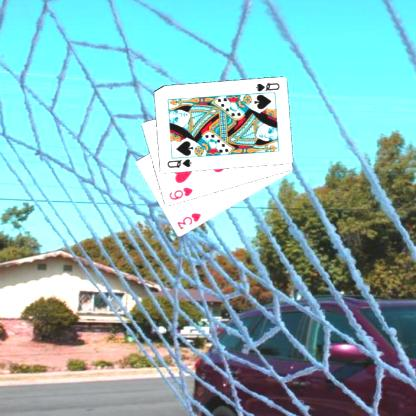3H: (174, 210, 202, 231)
6H: (166, 185, 194, 201)
QS: (164, 156, 193, 170), (253, 80, 281, 93)
